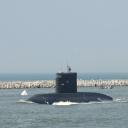submarine: (24, 59, 128, 107)
